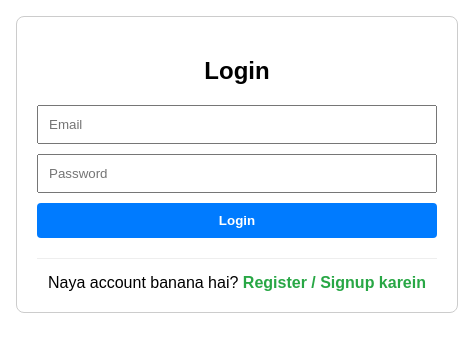
Test: Login Component › handles successful login and stores token in localStorage
The image size is (475, 361).
Step 1. Type "john@example.com" into the field with placeholder "Email" → [237, 124], box x1=37 y1=105 x2=437 y2=144
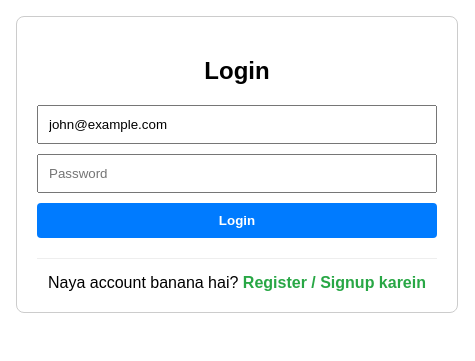
Step 2. Type "secret" into the password field with placeholder "Password" → [237, 173], box x1=37 y1=154 x2=437 y2=193
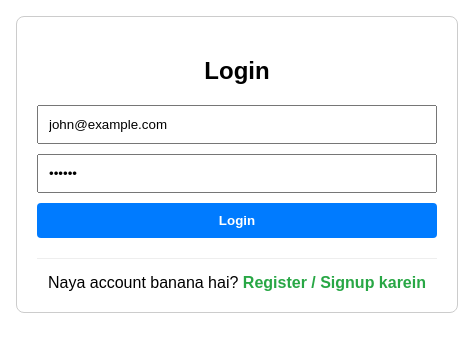
Step 3. Click the button "Login" → [237, 220], box x1=37 y1=203 x2=437 y2=238
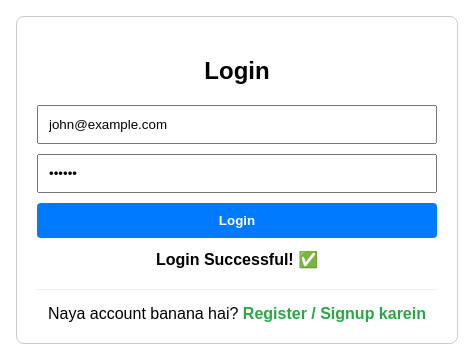
Now the text "Login Successful! ✅" is shown, box x1=156 y1=251 x2=318 y2=268
